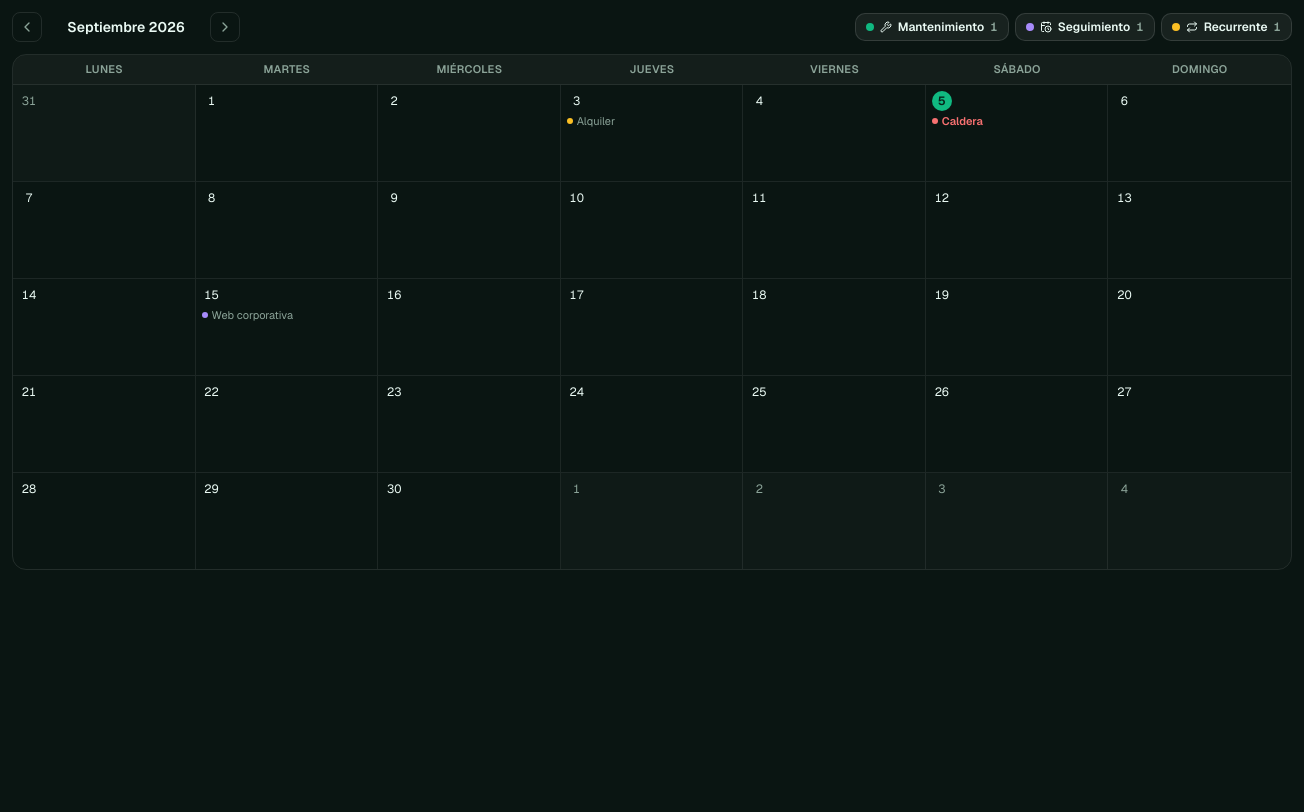
it: Calendario › una tarea vencida se ve en hoy y marcada
Click the button with aria-label ", 5 de septiembre de 2026" at coordinates (1017, 132), box [926,84,1108,180]
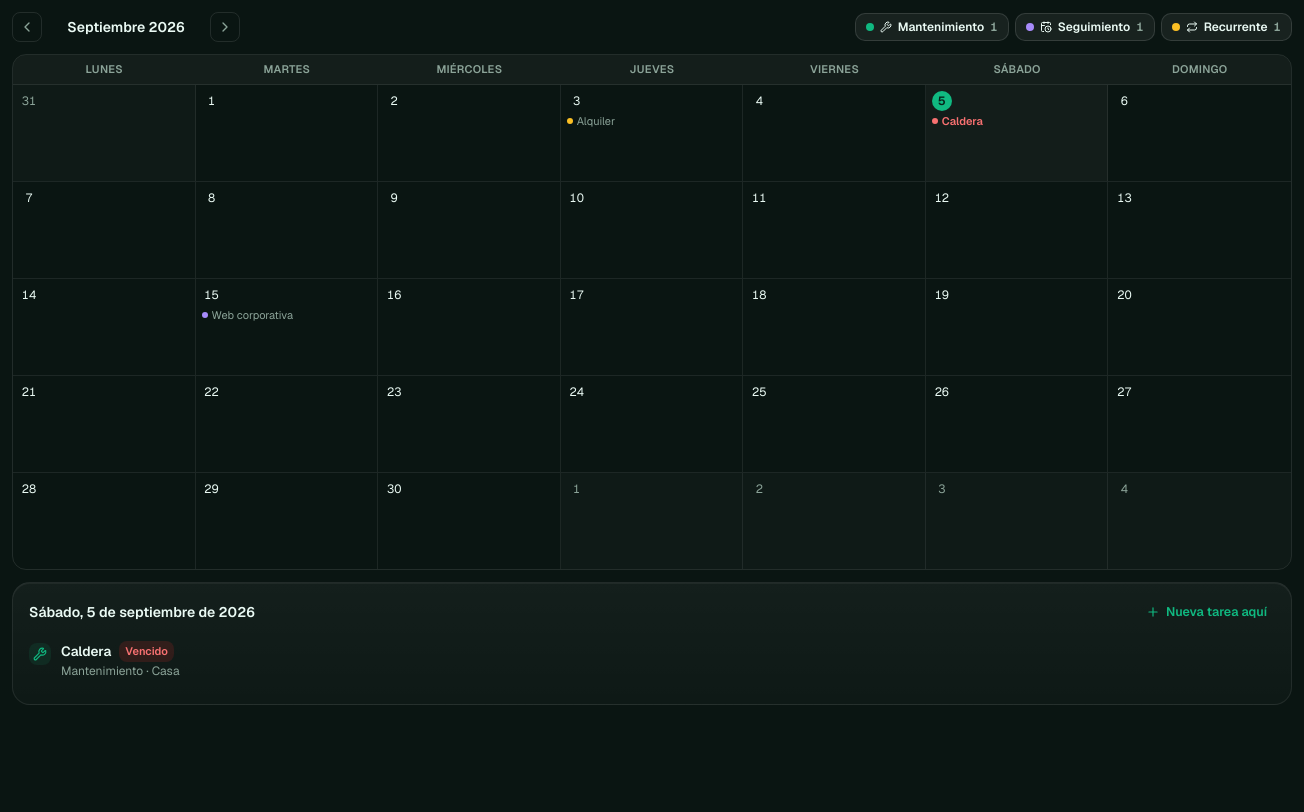
Check: the text "Caldera" below "Sábado, 5 de septiembre de 2026" is shown, box [61,642,111,660]
Check: the text "Vencido" is shown, box [119,641,174,662]
